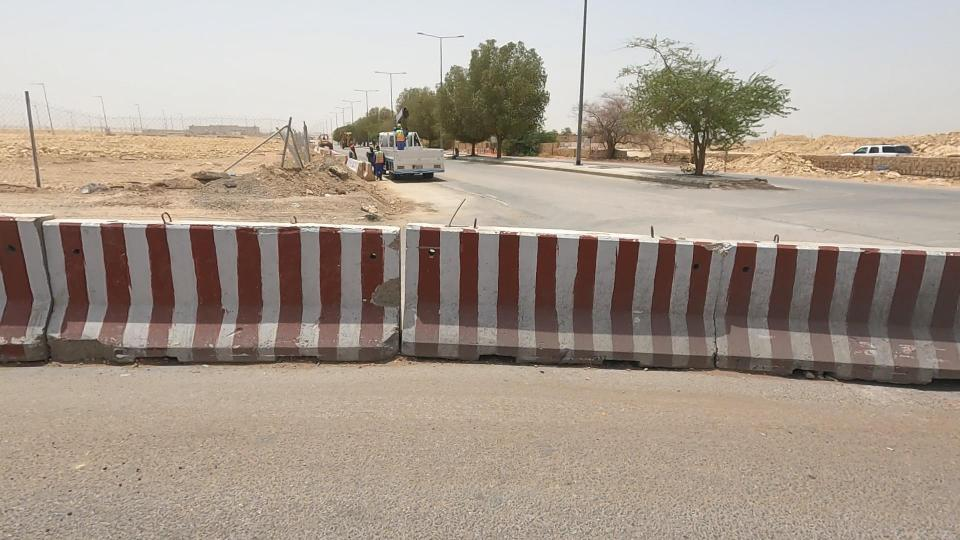CONSTRUCTION_ROAD: (0, 105, 650, 448), (433, 151, 960, 421), (285, 117, 405, 206)
